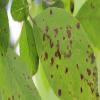Apple Scab Leaf: (33, 8, 99, 99)
